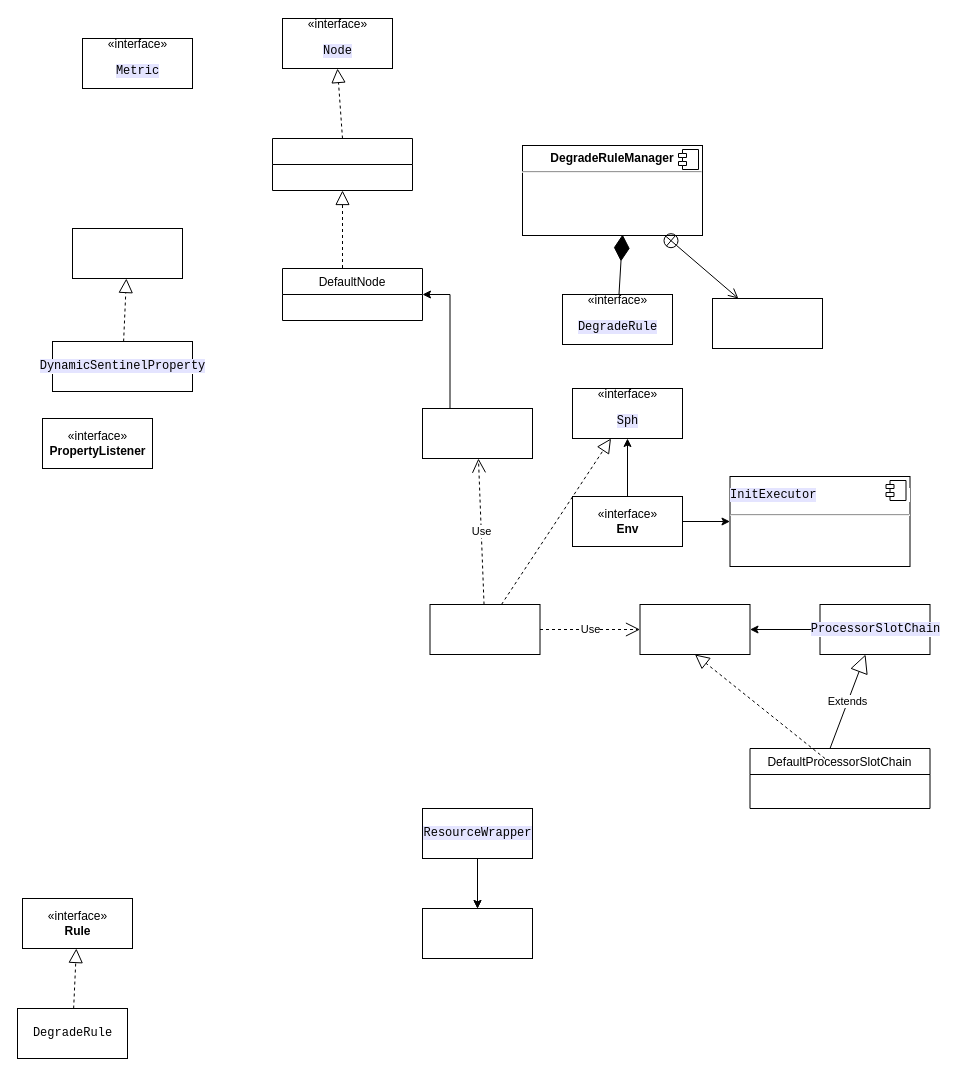
This 957x1076 diagram has some shape labels left out. The centre of each missing label's shape, as x and y in pixels:
"Context" belongs at (x=477, y=433).
"CtSph" belongs at (x=484, y=629).
"EntryType" belongs at (x=477, y=933).
"RulePropertyListener" belongs at (x=767, y=323).
"StatisticNode" belongs at (x=342, y=164).
"«interface» ProcessorSlot" belongs at (x=694, y=629).
"«interface» SentinelProperty" belongs at (x=127, y=253).
